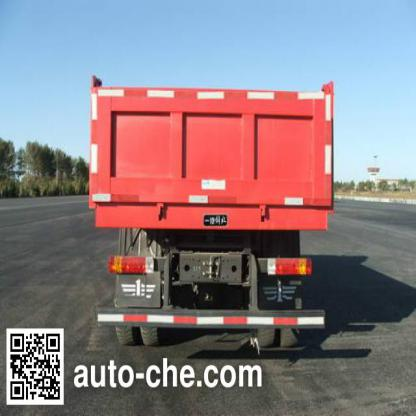normal-truck: (85, 72, 368, 350)
